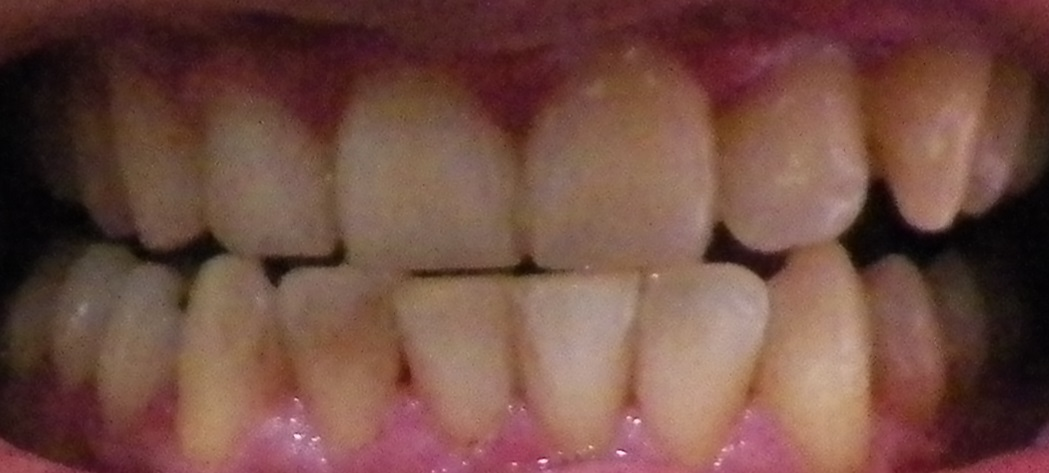boca: (28, 54, 1011, 454)
